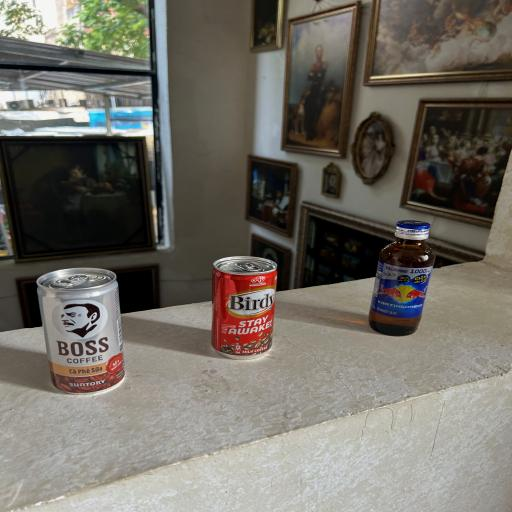birdy: (209, 256, 281, 364)
bo_huc: (368, 216, 435, 338)
boss_coffee: (37, 267, 129, 395)
